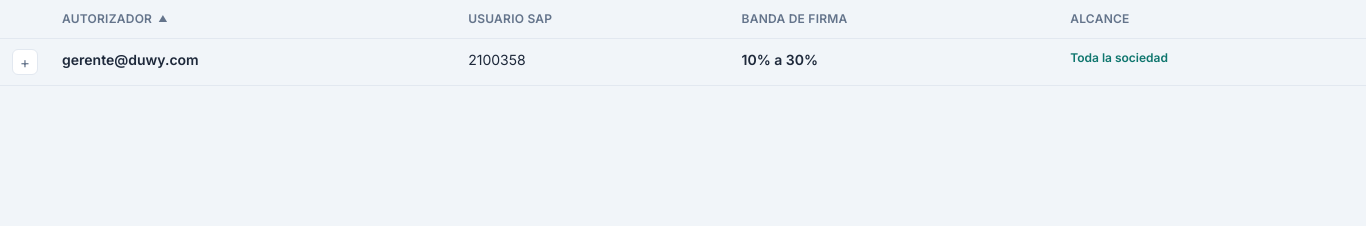
Scenario: AuthorizersTable › el detalle de un comodin explica que no tiene restriccion
Click the button named "Ver detalle" at point(25, 62), box x1=12 y1=49 x2=38 y2=75
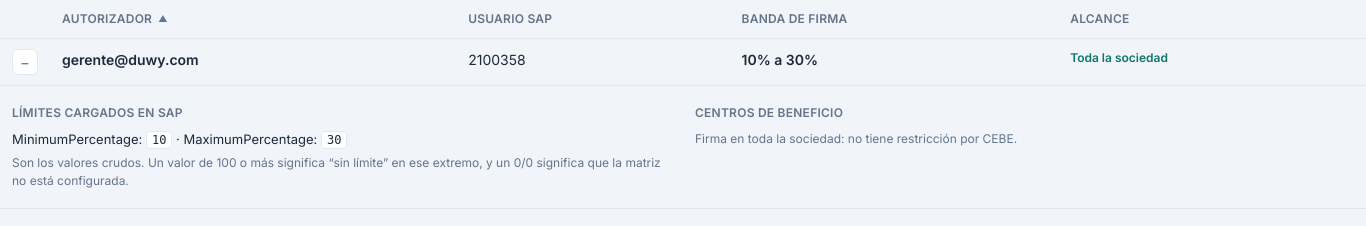
Expected: the text "Firma en toda la sociedad: no tiene restricción por CEBE." is shown, x1=695 y1=131 x2=1017 y2=146
